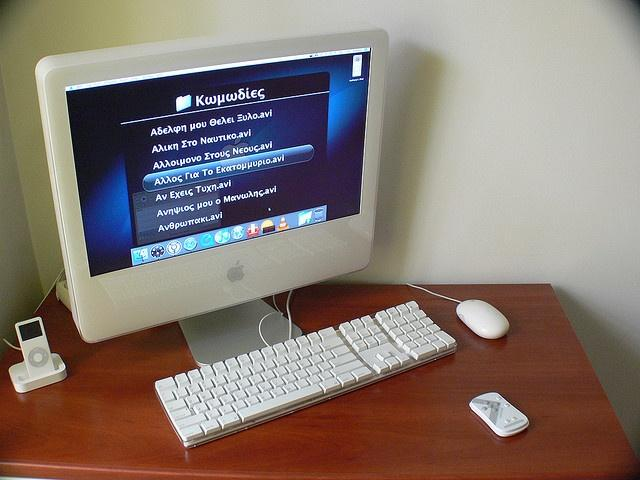AIO PC-Monitor-TV: (35, 22, 389, 367)
